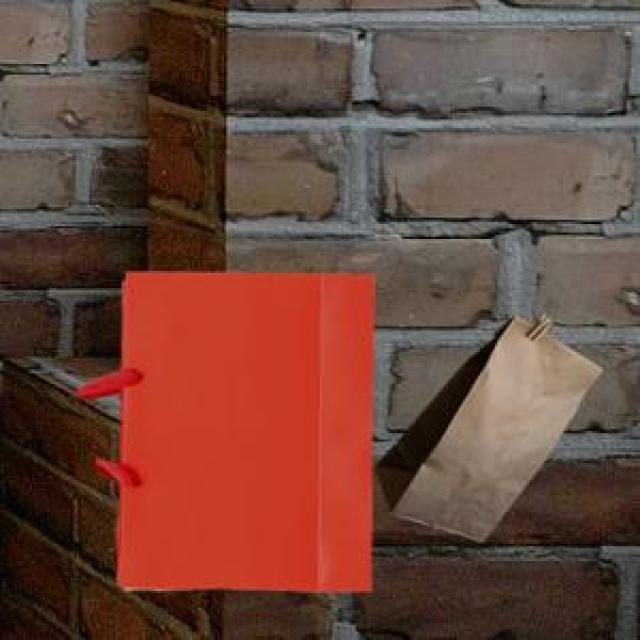paper: (75, 269, 371, 587), (371, 312, 597, 538)
